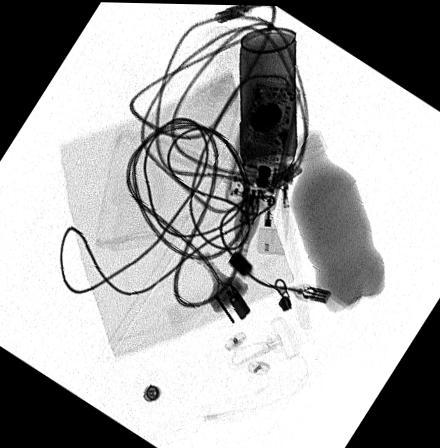Lighter: (256, 177, 291, 252)
